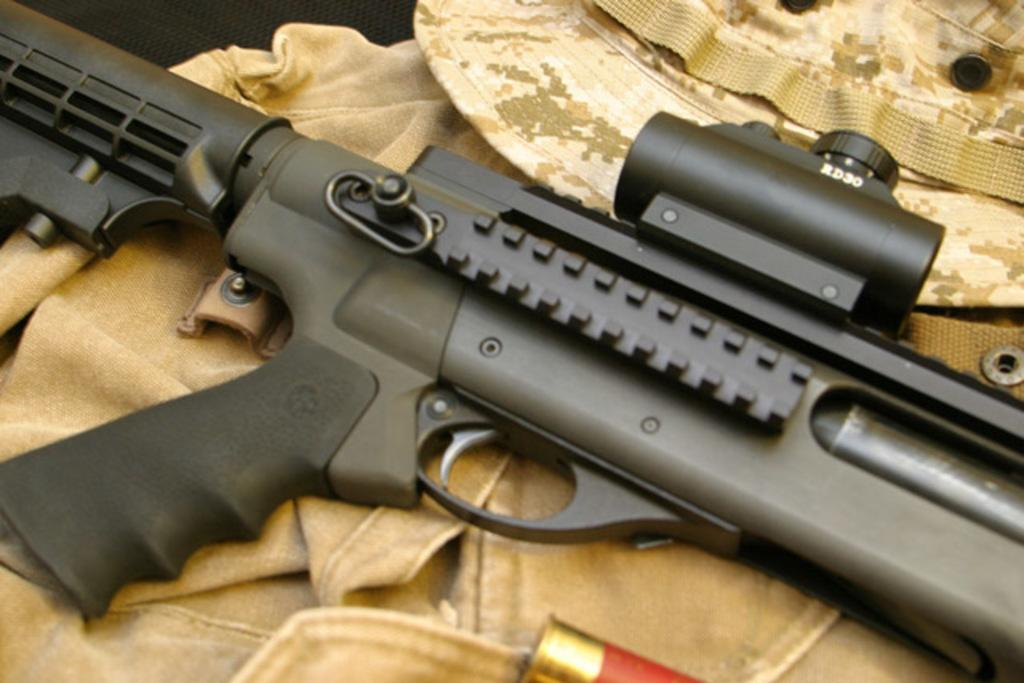Rifle: (0, 59, 1022, 683)
